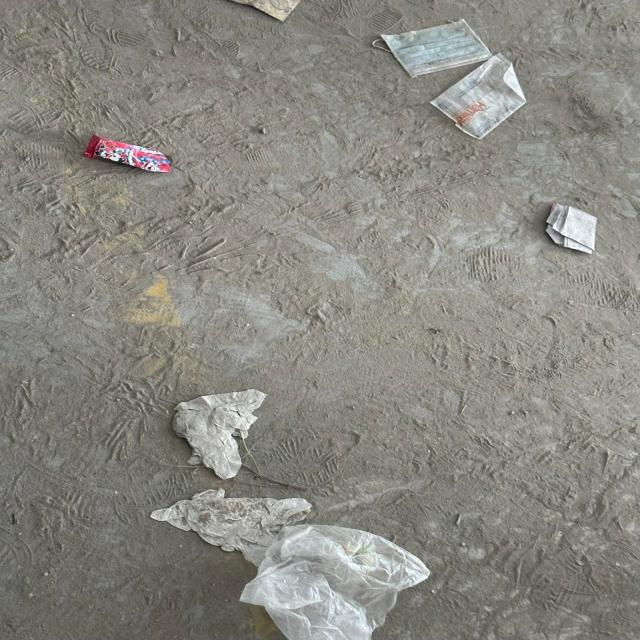bag: (239, 523, 432, 640)
clothes: (545, 202, 596, 255)
mask: (370, 17, 494, 78)
napkin: (150, 486, 314, 568), (173, 388, 269, 481)
packet: (429, 52, 528, 141), (82, 132, 174, 172)
